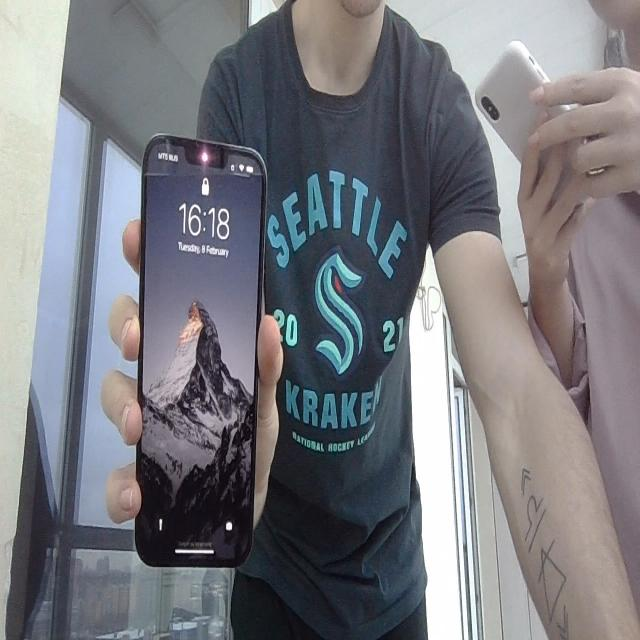device: (125, 129, 273, 587)
